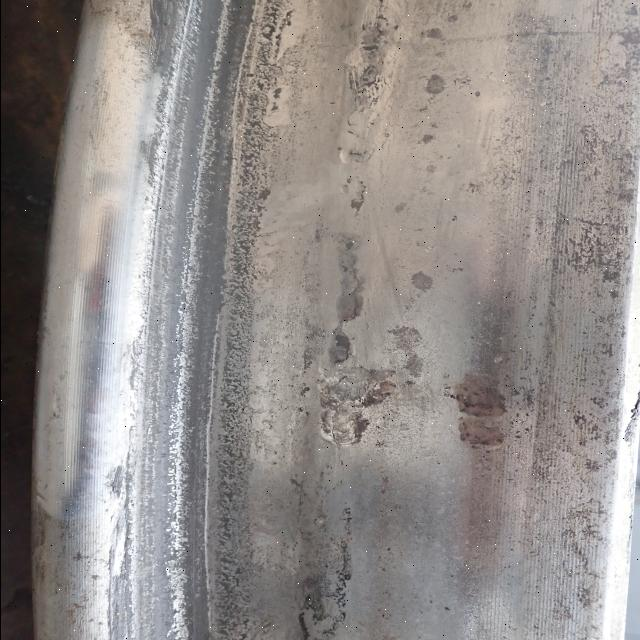boli: (312, 216, 388, 465), (336, 0, 422, 157), (440, 362, 534, 450)
